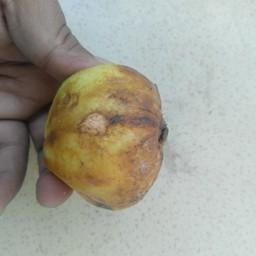Bad_guava: (36, 56, 177, 212)
